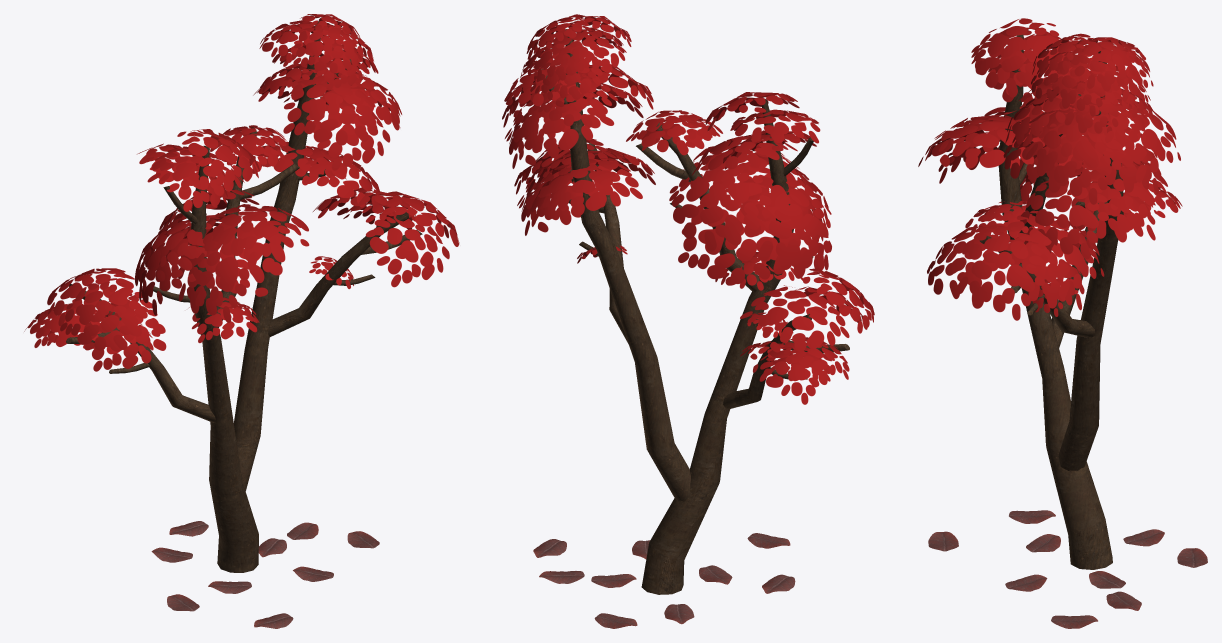
3 views of the same model, side by side, from view 1: azimuth 30°, elevation 25°; view 2: azimuth 150°, elevation 25°; view 3: azimuth 270°, elevation 25° (orthographic). The views are drawn at different scales.
Parts seen in each view (by area): view 1: Cube.001; view 2: Cube.001; view 3: Cube.001.
Part boxes in pixels (bbox=[...]): Cube.001: bbox=[24, 14, 459, 628]; Cube.001: bbox=[502, 14, 874, 628]; Cube.001: bbox=[918, 18, 1207, 628].
Size of the model in its own units: 5.86 by 7.92 by 3.81.
Materials: 3 (3 with a texture image).
